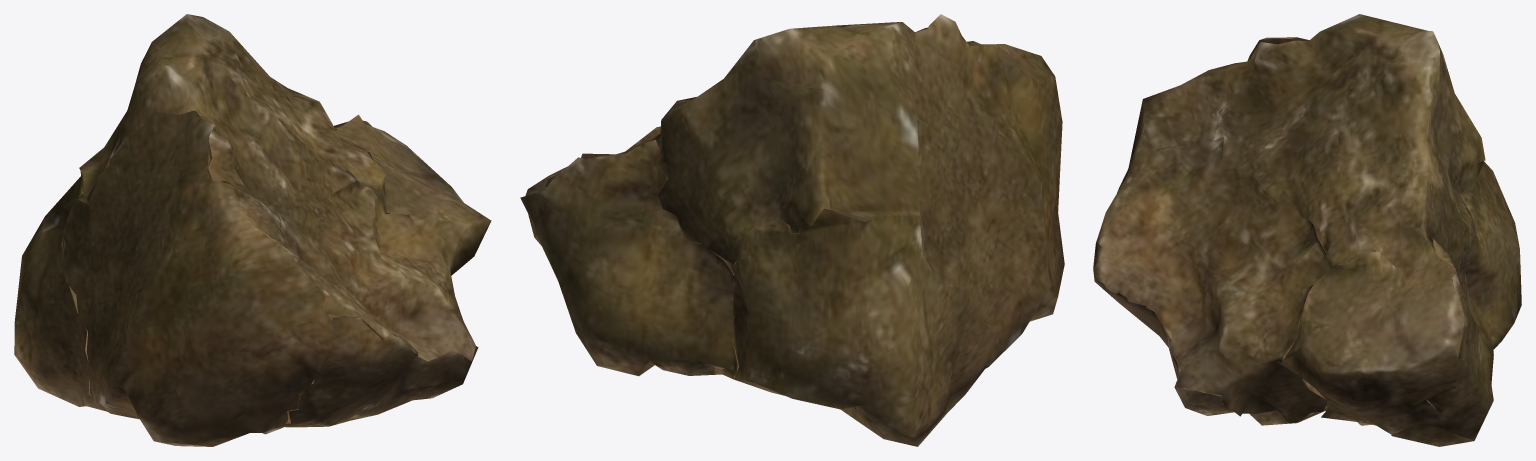
Rendered from mossy_rock_4.glb.
3 renders of one model, left to right at view 1: azimuth 30°, elevation 25°; view 2: azimuth 150°, elevation 25°; view 3: azimuth 270°, elevation 25°, orthographic. The views are drawn at different scales.
Visible parts, largest first — view 1: mossy_rock_4; view 2: mossy_rock_4; view 3: mossy_rock_4.
Boxes of the visible parts, x1,y1,x2,y2 form: mossy_rock_4: (14, 14, 491, 446); mossy_rock_4: (520, 14, 1064, 446); mossy_rock_4: (1093, 14, 1521, 446).
Bounding box in the file's own units: 2.14 × 1.76 × 1.97.
Materials: 1 (1 with a texture image).
